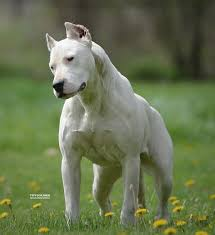dog: (40, 18, 179, 230)
